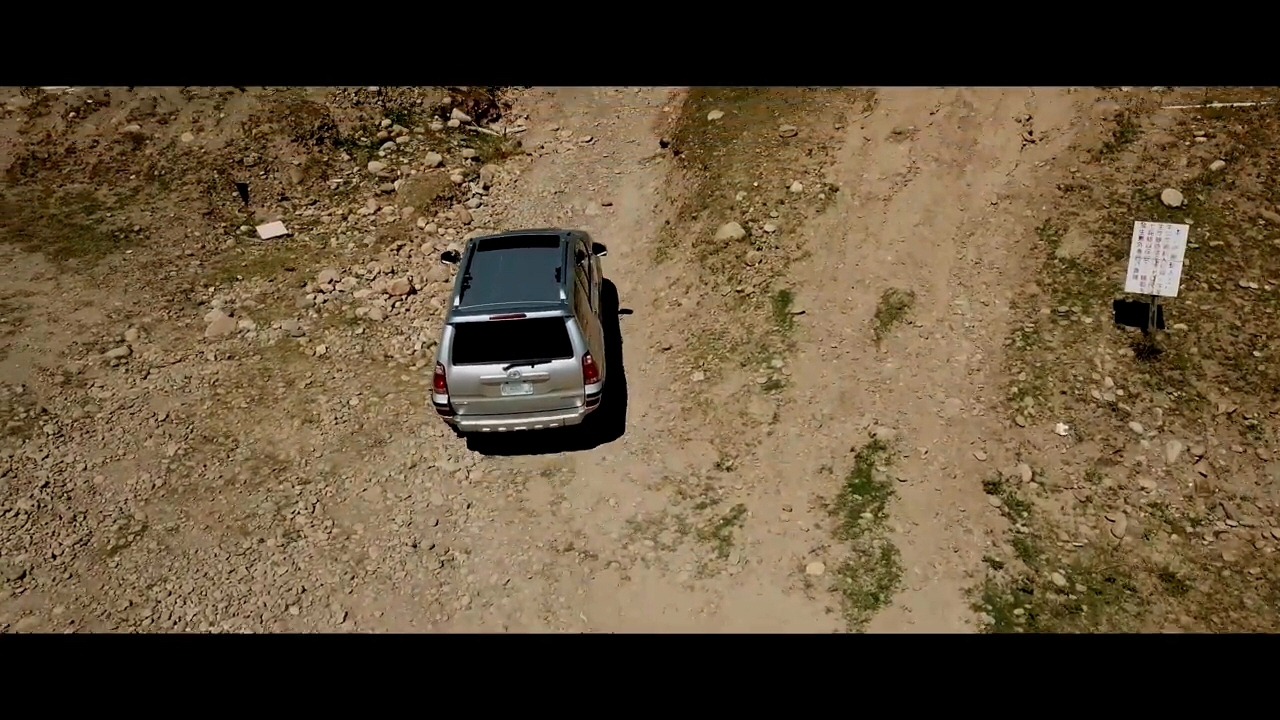araba: (433, 228, 606, 436)
